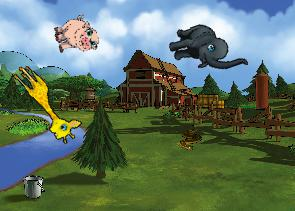elephant: (164, 12, 248, 87)
giraffe: (2, 61, 86, 147)
pig: (50, 12, 101, 60)
